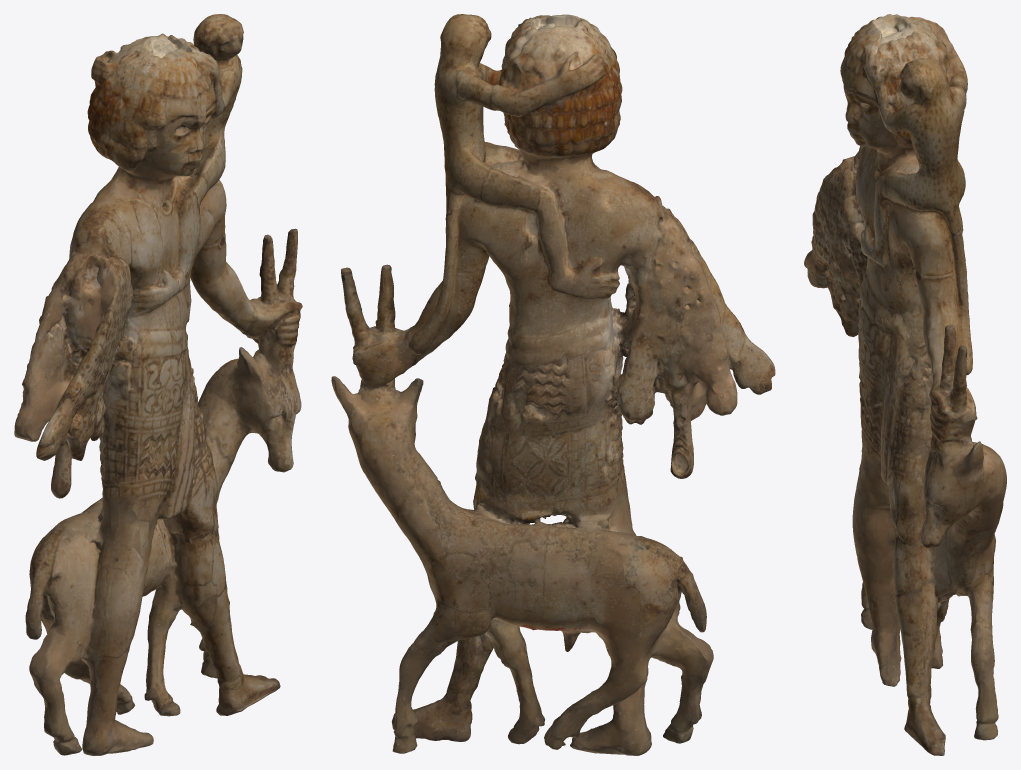
Rendered from figure_of_a_man_with_an_oryx.glb.
3 renders of one model, left to right at view 1: azimuth 30°, elevation 25°; view 2: azimuth 150°, elevation 25°; view 3: azimuth 270°, elevation 25°, orthographic. The views are drawn at different scales.
Visible parts, largest first — view 1: _n3d2; view 2: _n3d2; view 3: _n3d2.
Boxes of the visible parts, x1,y1,x2,y2 form: _n3d2: [14, 14, 302, 755]; _n3d2: [331, 14, 775, 755]; _n3d2: [804, 14, 1006, 755].
Bounding box in the file's own units: 0.0694 × 0.1361 × 0.0371.
Materials: 1 (1 with a texture image).
